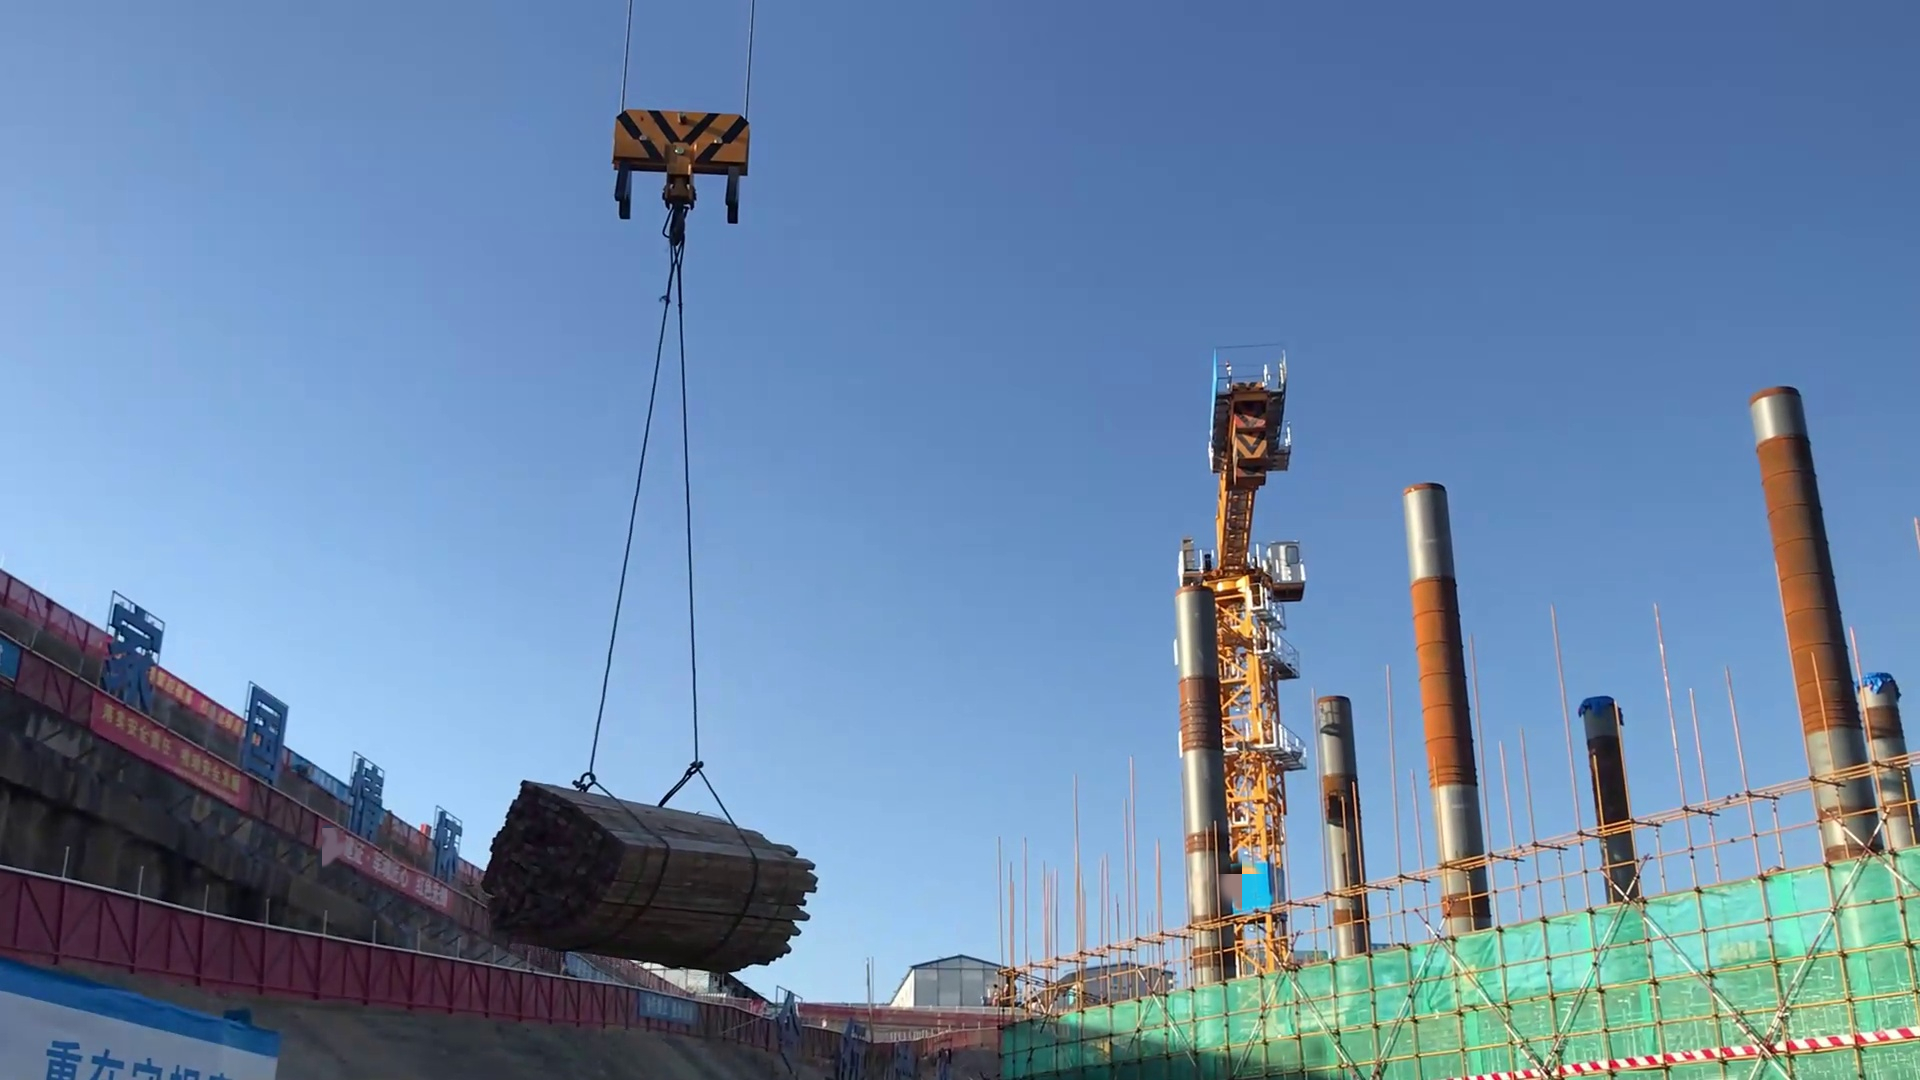fence: (3, 860, 458, 1034), (465, 960, 814, 1067)
hook: (574, 87, 786, 448)
slogan: (301, 807, 468, 923), (86, 695, 256, 804), (11, 1009, 281, 1077), (152, 670, 251, 746)
wood: (469, 767, 855, 986)
